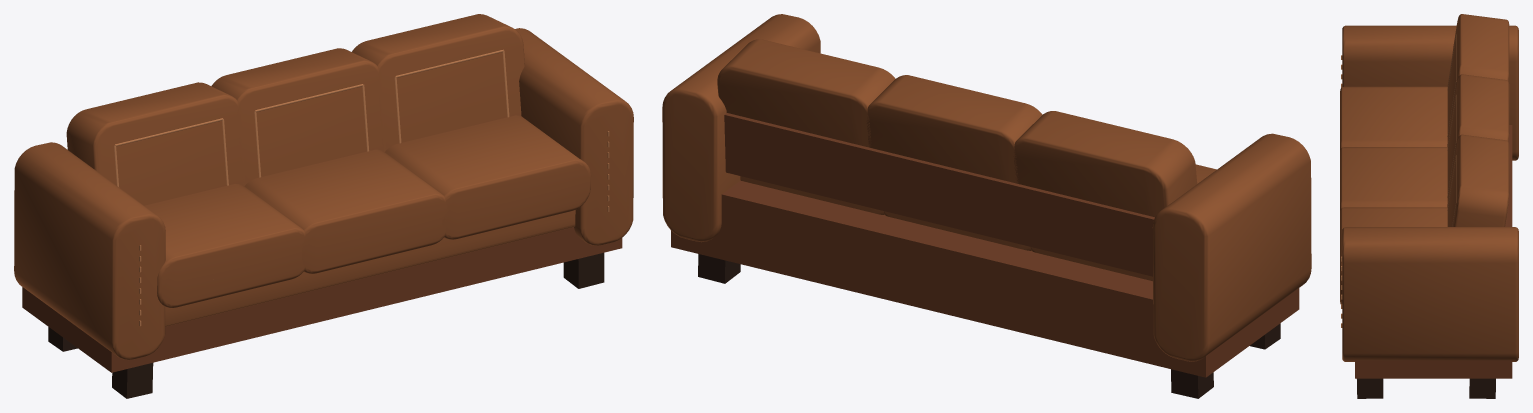
Rendered from cognac-leather-sofa-default.glb.
The picture shows the model from 3 angles, left to right: view 1: azimuth 30°, elevation 25°; view 2: azimuth 150°, elevation 25°; view 3: azimuth 270°, elevation 25°; orthographic projection. The views are drawn at different scales.
Visible parts, largest first — view 1: sofa-part-28, sofa-part-4, back-cushion-3-part-0, seat-cushion-1-part-0, seat-cushion-2-part-0, back-cushion-1-part-0, back-cushion-2-part-0, seat-cushion-3-part-0, sofa-part-7, sofa-part-5, sofa-part-0, sofa-part-2; view 2: sofa-part-4, sofa-part-28, sofa-part-6, back-cushion-3-part-0, back-cushion-1-part-0, back-cushion-2-part-0, sofa-part-7, sofa-part-3, sofa-part-1, seat-cushion-3-part-0, seat-cushion-2-part-0, seat-cushion-1-part-0; view 3: sofa-part-7, sofa-part-28, seat-cushion-2-part-0, seat-cushion-3-part-0, back-cushion-1-part-0, back-cushion-2-part-0, back-cushion-3-part-0, sofa-part-4, seat-cushion-1-part-0, sofa-part-0, sofa-part-1.
Part boxes in pixels (bbox=[...]): sofa-part-28: bbox=[14, 142, 165, 359]; sofa-part-4: bbox=[22, 227, 622, 372]; back-cushion-3-part-0: bbox=[66, 82, 245, 205]; seat-cushion-1-part-0: bbox=[385, 115, 590, 239]; seat-cushion-2-part-0: bbox=[244, 149, 448, 273]; back-cushion-1-part-0: bbox=[352, 14, 524, 151]; back-cushion-2-part-0: bbox=[211, 48, 385, 185]; seat-cushion-3-part-0: bbox=[144, 184, 305, 308]; sofa-part-7: bbox=[515, 28, 633, 245]; sofa-part-5: bbox=[165, 210, 575, 326]; sofa-part-0: bbox=[563, 252, 604, 288]; sofa-part-2: bbox=[112, 363, 153, 398]; sofa-part-4: bbox=[671, 180, 1299, 377]; sofa-part-28: bbox=[1152, 133, 1311, 361]; sofa-part-6: bbox=[724, 113, 1154, 276]; back-cushion-3-part-0: bbox=[1013, 111, 1197, 217]; back-cushion-1-part-0: bbox=[717, 39, 895, 147]; back-cushion-2-part-0: bbox=[866, 75, 1042, 183]; sofa-part-7: bbox=[662, 14, 820, 242]; sofa-part-3: bbox=[1171, 369, 1213, 398]; sofa-part-1: bbox=[698, 254, 740, 283]; seat-cushion-3-part-0: bbox=[1030, 164, 1216, 281]; seat-cushion-2-part-0: bbox=[884, 211, 1031, 250]; seat-cushion-1-part-0: bbox=[740, 176, 884, 214]; sofa-part-7: bbox=[1342, 227, 1518, 361]; sofa-part-28: bbox=[1342, 25, 1518, 160]; seat-cushion-2-part-0: bbox=[1340, 147, 1447, 211]; seat-cushion-3-part-0: bbox=[1340, 86, 1447, 150]; back-cushion-1-part-0: bbox=[1447, 134, 1509, 226]; back-cushion-2-part-0: bbox=[1447, 74, 1509, 204]; back-cushion-3-part-0: bbox=[1447, 14, 1509, 144]; sofa-part-4: bbox=[1355, 125, 1512, 378]; seat-cushion-1-part-0: bbox=[1340, 207, 1447, 304]; sofa-part-0: bbox=[1357, 378, 1383, 398]; sofa-part-1: bbox=[1469, 378, 1495, 398].
Bounding box in the file's own units: 2.64 × 1.08 × 0.886.
